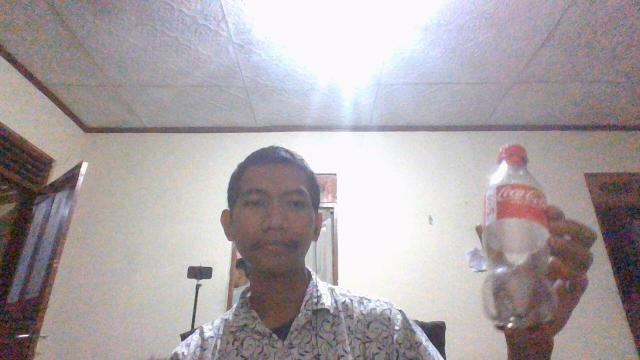coca-cola: (480, 142, 556, 332)
